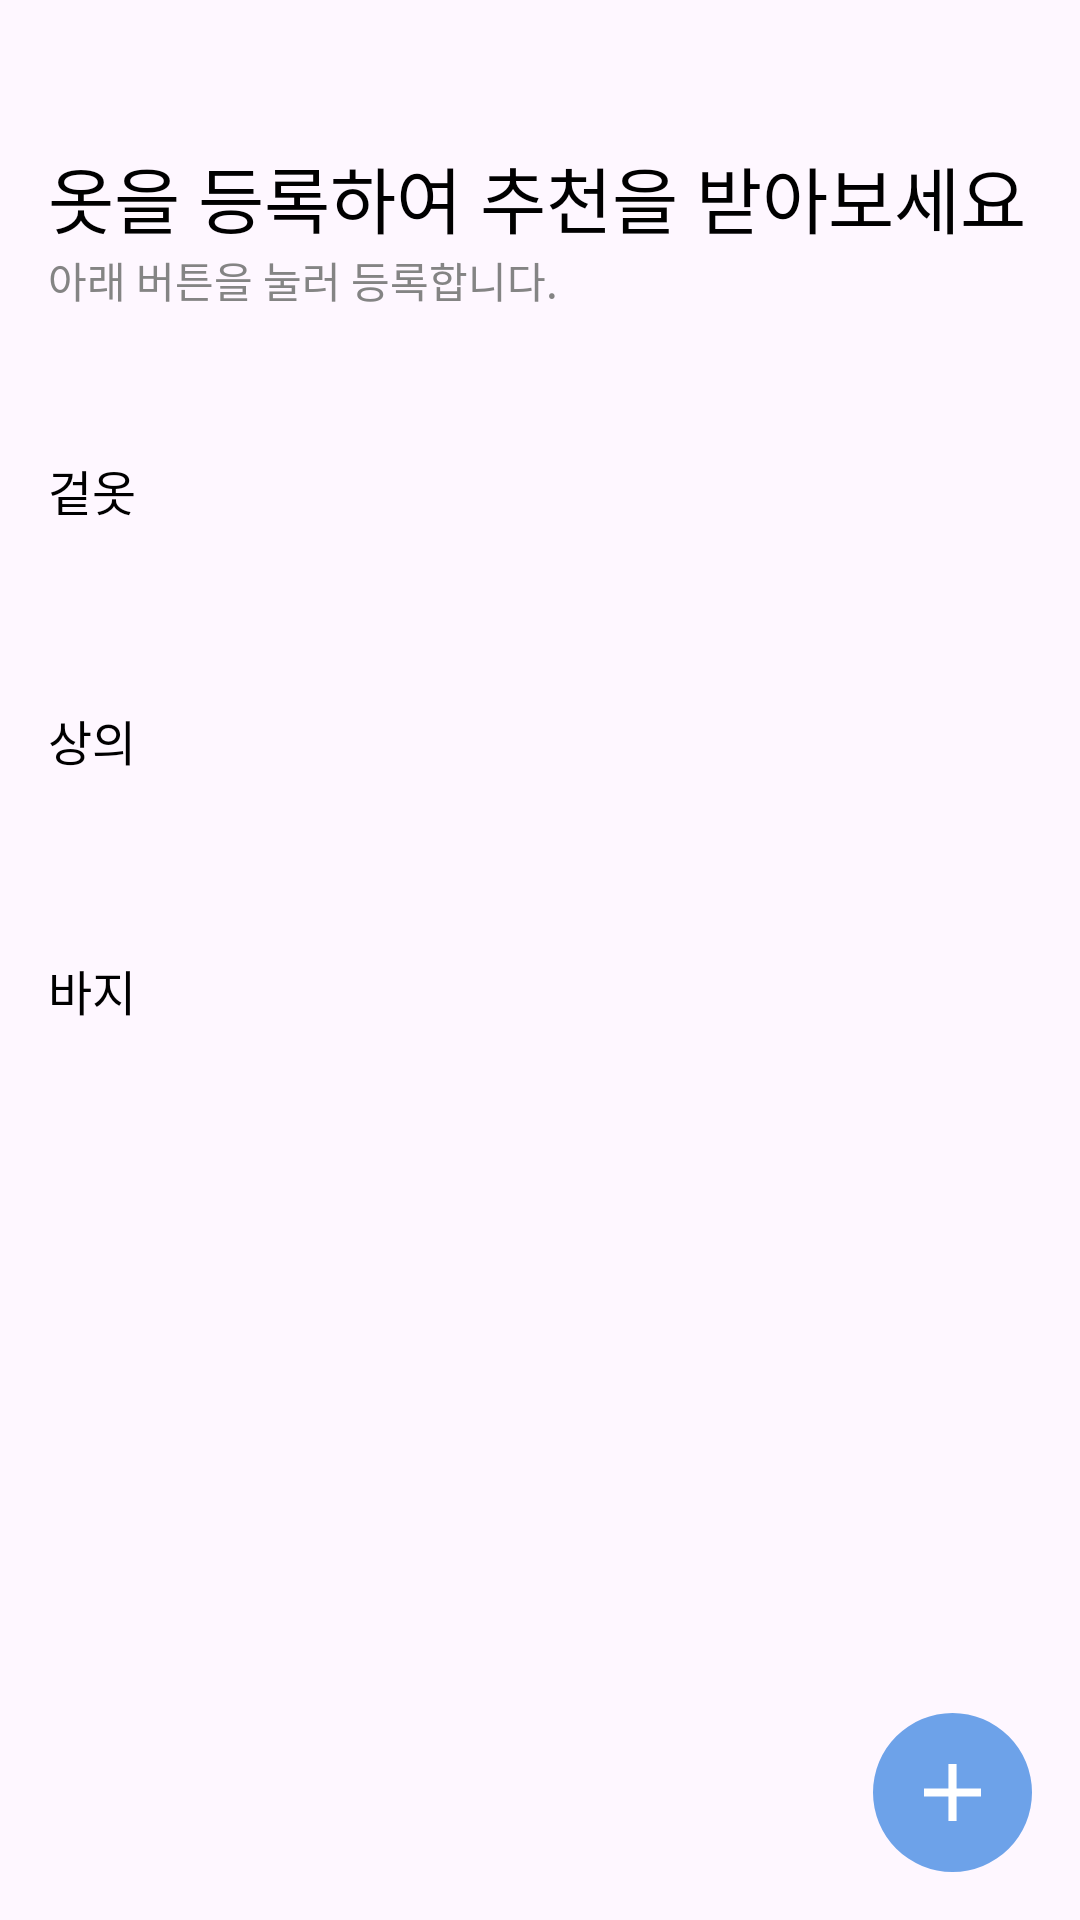

Point at icon controls on the screen. Image size 1080×1920, points as [x,y].
plus: [952,1792]
